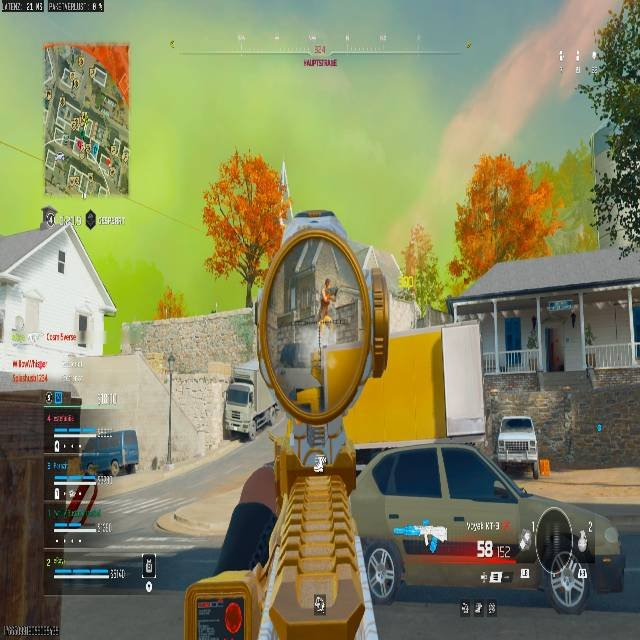head: (323, 278, 331, 288)
player: (319, 279, 336, 320)
